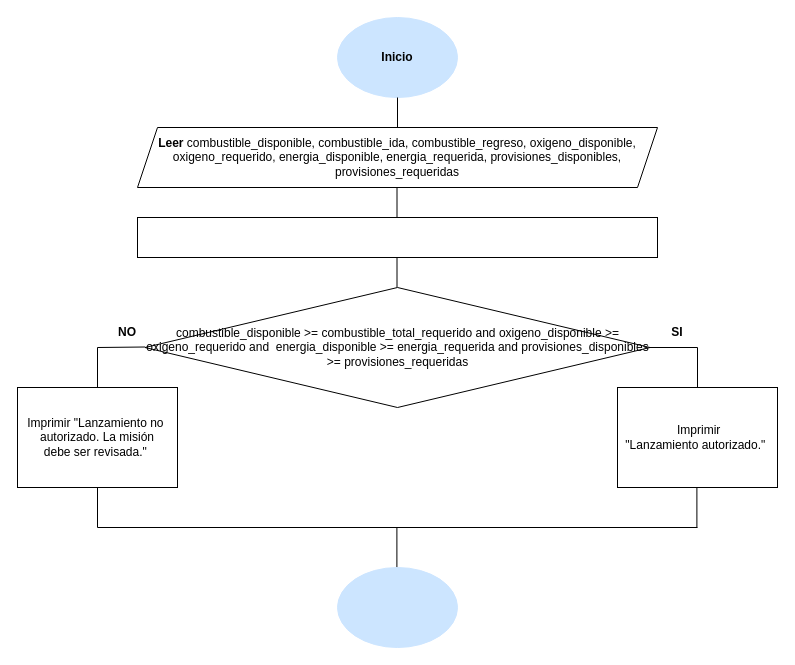
The diagram is 795 pixels wide and 665 high, and some of its shapes have lost their labels. Each missing label, with the centre of its shape:
"combustible_total_requerido = combustible_ida + combustible_regreso + 10" goes at point (397, 237).
"Fin" goes at point (397, 607).
